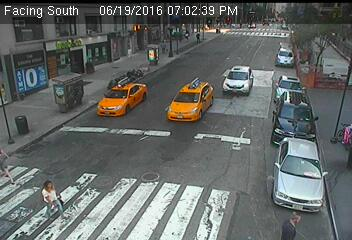neg: (150, 80, 176, 115), (35, 42, 58, 73), (220, 121, 242, 151), (283, 105, 304, 133), (309, 48, 330, 75), (259, 17, 279, 44), (181, 92, 200, 118), (53, 78, 71, 103), (91, 12, 108, 34), (253, 63, 269, 85)
pos: (33, 172, 71, 222), (278, 201, 304, 236), (192, 30, 203, 45)
